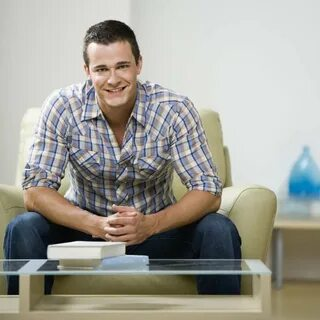awake: (3, 19, 241, 258)
